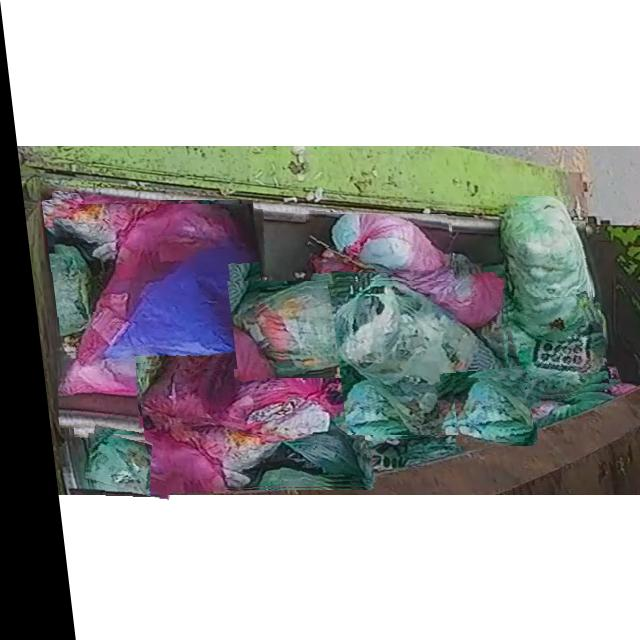general_trashbag: (327, 282, 503, 434), (496, 196, 585, 345), (225, 282, 355, 379), (498, 298, 596, 397), (75, 434, 156, 499), (447, 380, 524, 441)
other_trashbag: (52, 204, 262, 432), (133, 369, 349, 490), (304, 215, 446, 330)
